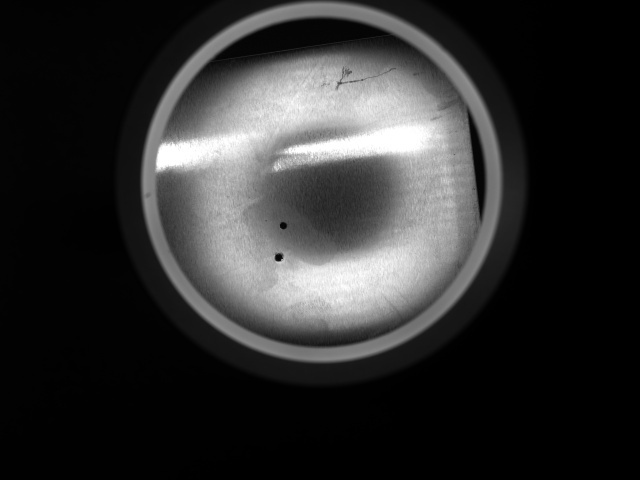ca_shang: (336, 59, 401, 89)
zhen_kong: (272, 250, 290, 265), (278, 219, 289, 231)
